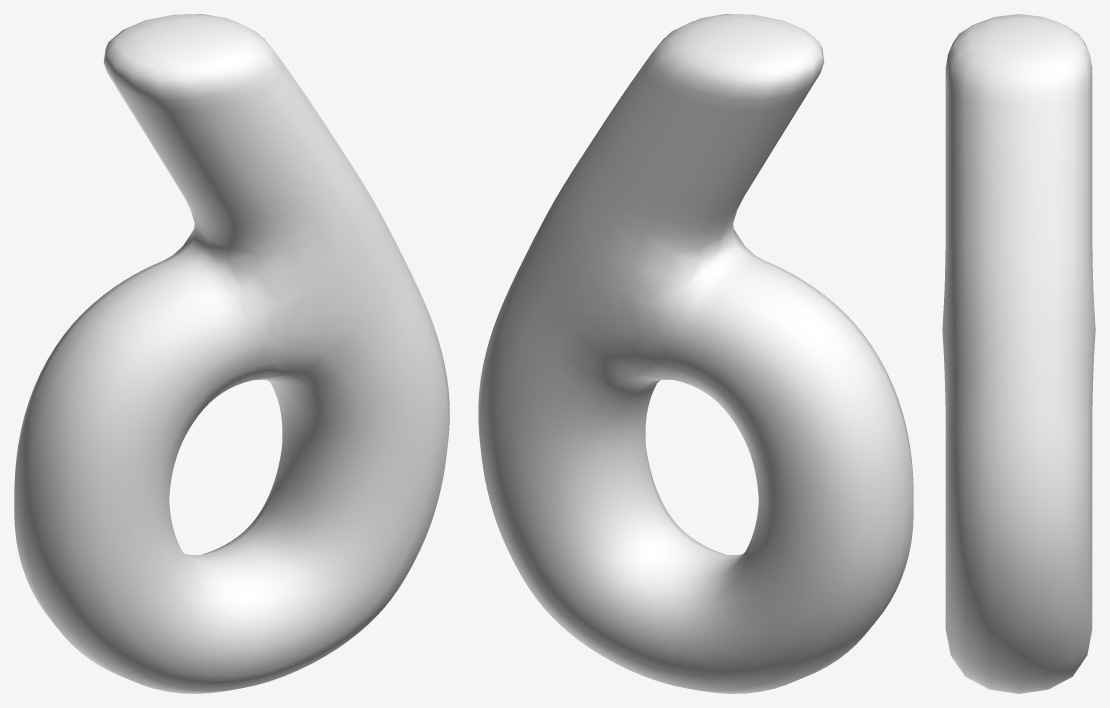
Rendered from numero-6.glb.
3 renders of one model, left to right at view 1: azimuth 30°, elevation 25°; view 2: azimuth 150°, elevation 25°; view 3: azimuth 270°, elevation 25°, orthographic. The views are drawn at different scales.
Parts seen in each view (by area): view 1: node_id30; view 2: node_id30; view 3: node_id30.
Boxes of the visible parts, x1,y1,x2,y2 form: node_id30: (14, 14, 449, 693); node_id30: (478, 14, 913, 693); node_id30: (942, 14, 1095, 693).
Bounding box in the file's own units: 0.3363 × 0.512 × 0.1153.
1 material, 1 textured.
